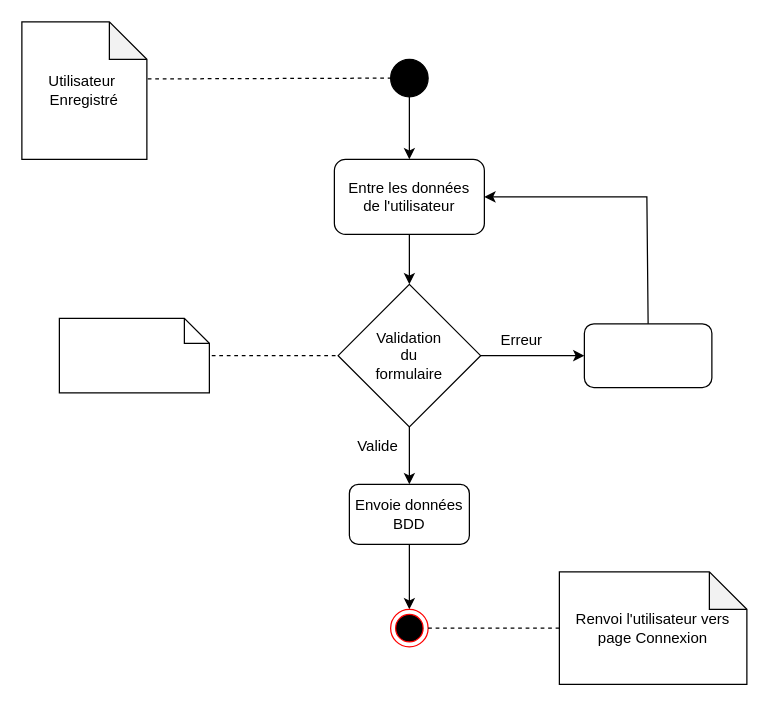
This 769x706 diagram has some shape labels left out. Here are the shapes that lost their labels. From the top down, the centre of each, then its label:
point (133, 355): Valider coté Client & Serveur
point (647, 355): Affiche les msg erreurs
